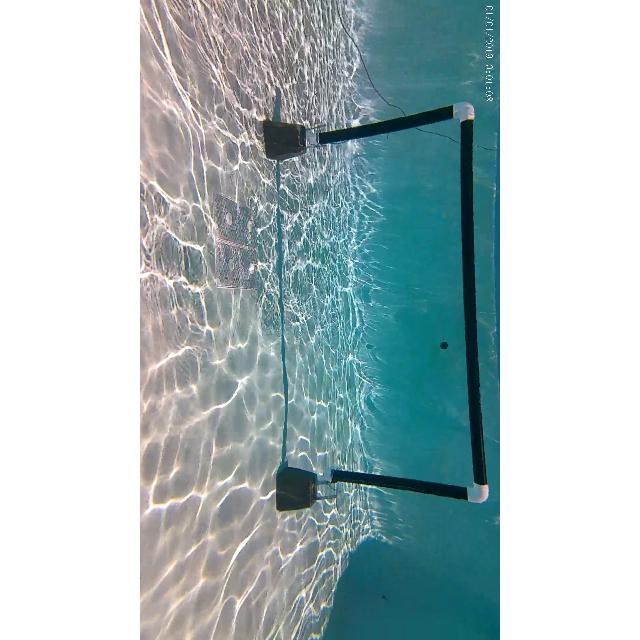prequal gate: (305, 100, 489, 503)
prequal gate leg l: (261, 98, 473, 164)
prequal gate leg r: (271, 454, 489, 518)
